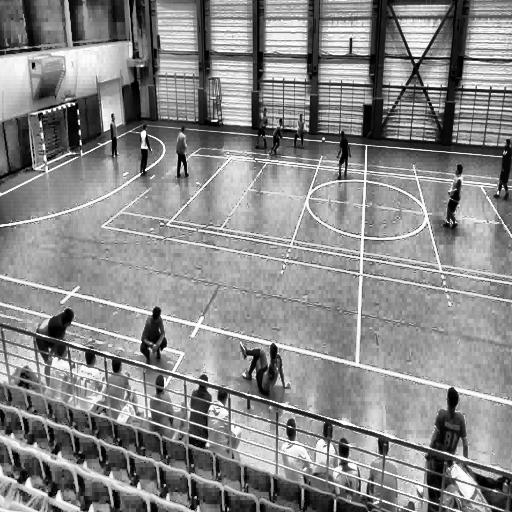ball: (320, 136, 326, 144)
player: (141, 306, 167, 366), (441, 163, 463, 231), (493, 138, 512, 202), (336, 131, 351, 180), (254, 103, 269, 150), (176, 125, 189, 177), (140, 123, 151, 176), (271, 118, 284, 156), (110, 112, 119, 160), (294, 113, 305, 149)
